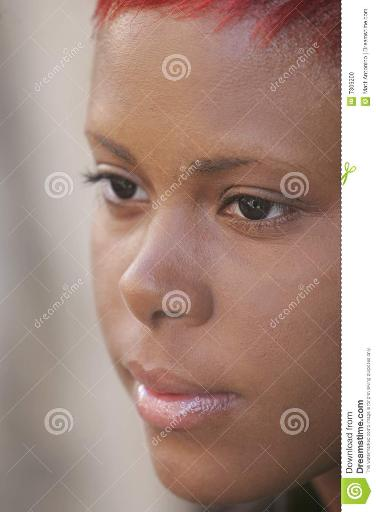left_eye: (215, 189, 296, 233)
left_lip_corner: (213, 379, 243, 409)
right_eye: (98, 172, 153, 212)
